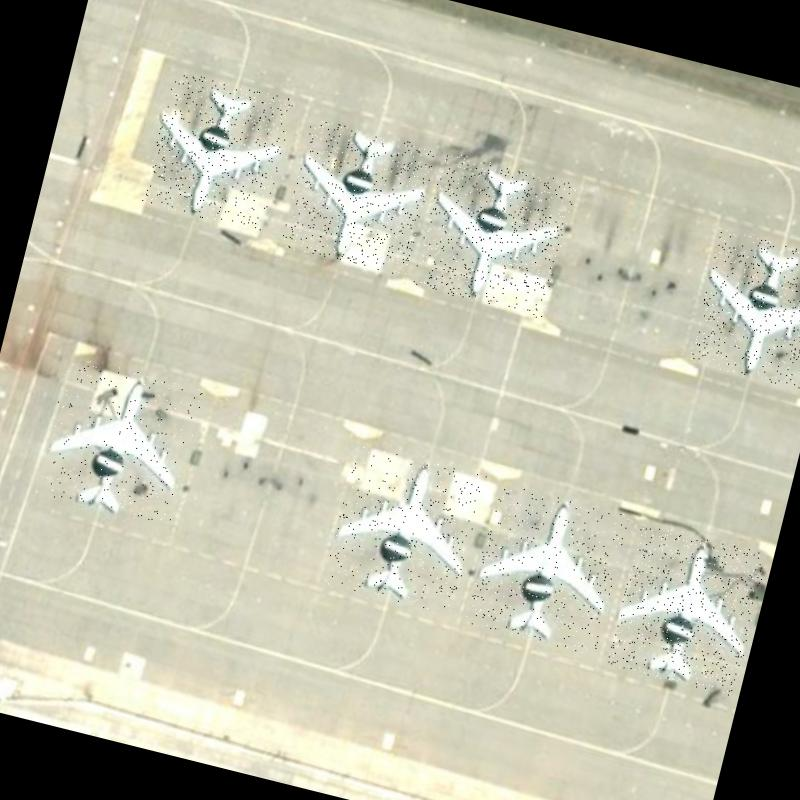A7: (35, 354, 205, 528), (464, 482, 630, 656), (606, 522, 769, 696), (411, 150, 577, 320), (322, 444, 486, 615), (280, 118, 437, 278), (142, 70, 294, 233), (688, 228, 800, 391)
